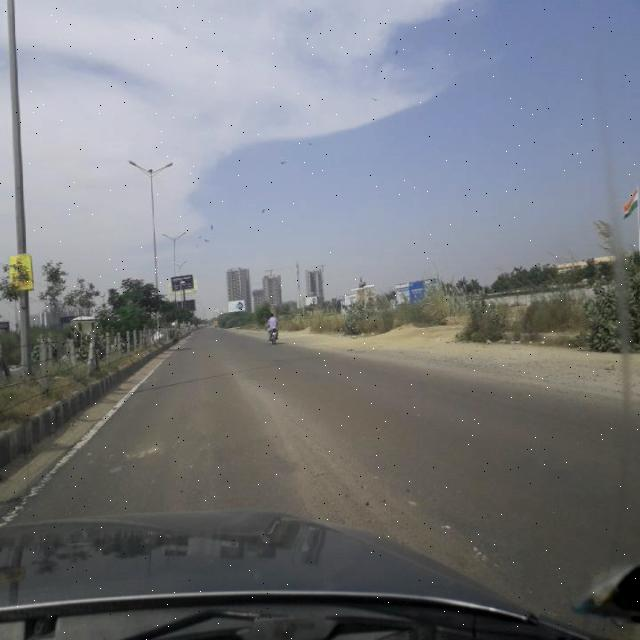D44: (10, 404, 116, 522)
